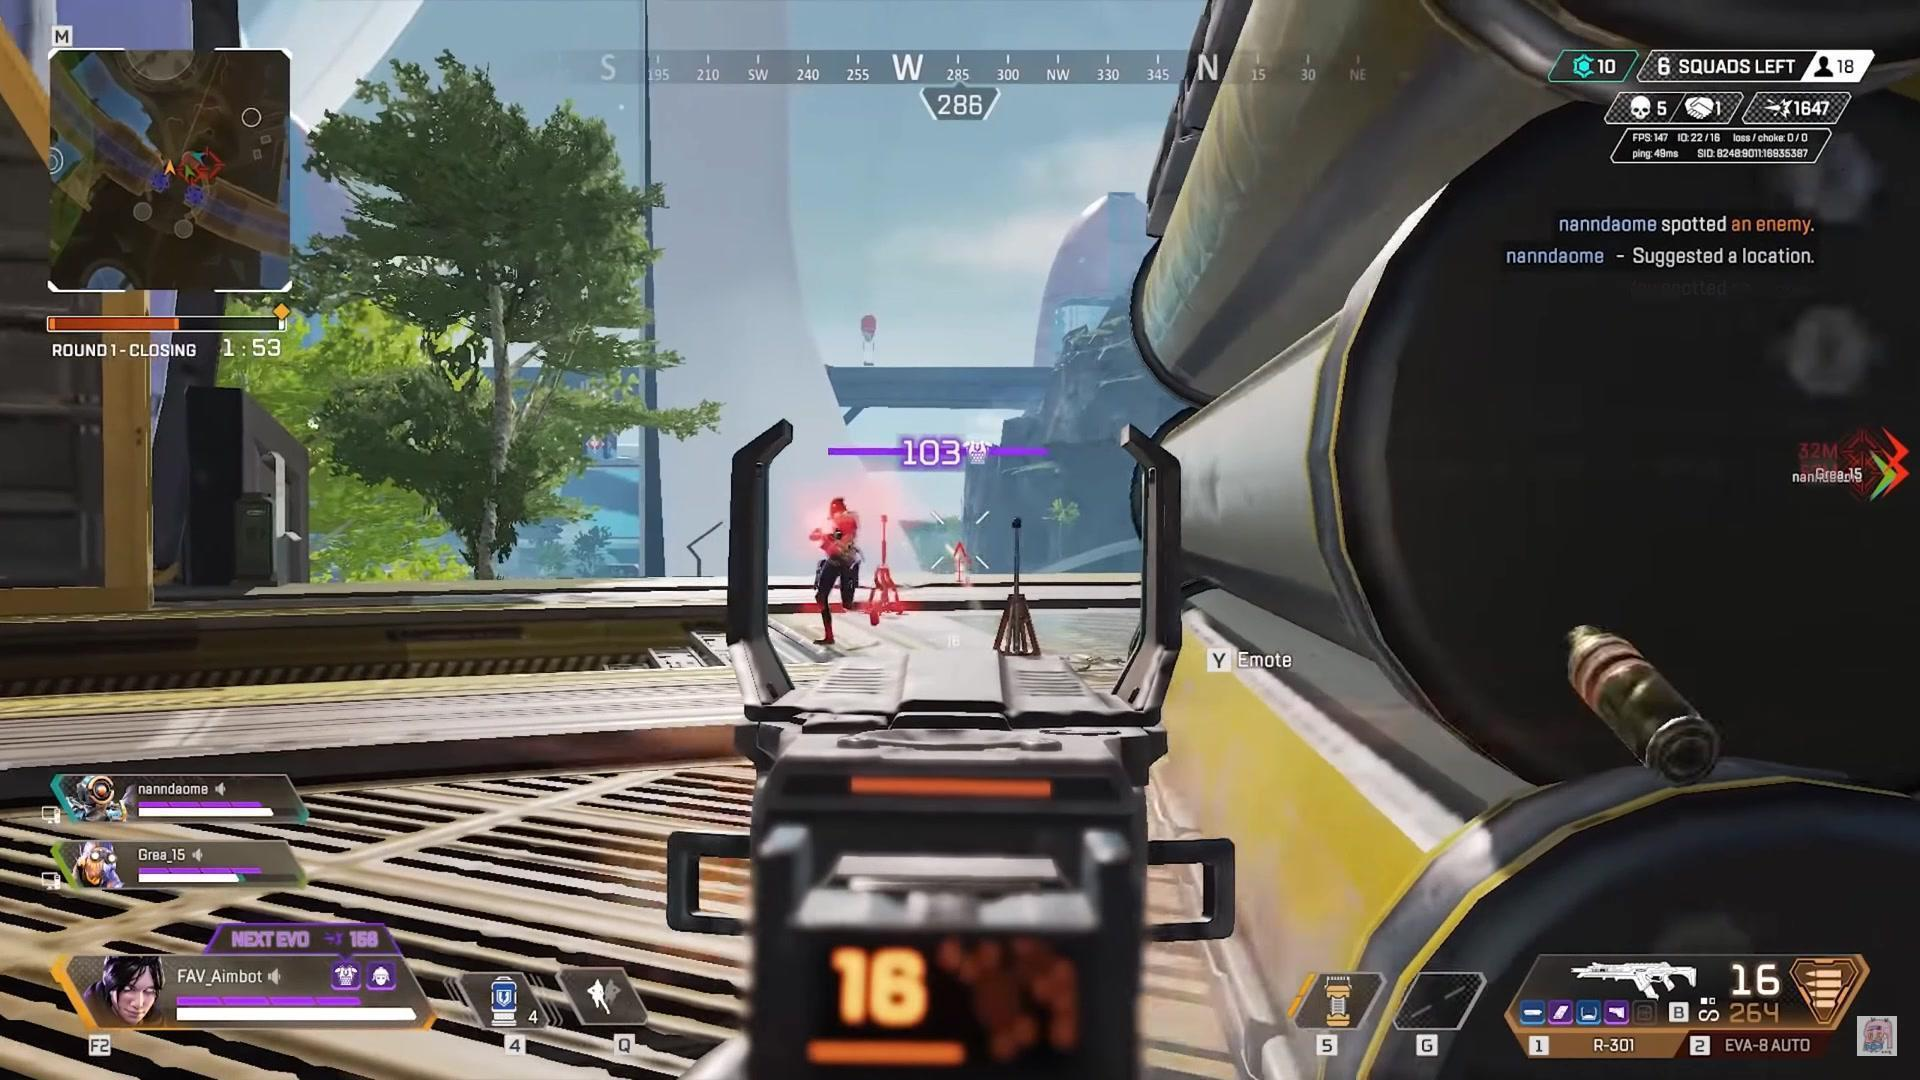avatar: (809, 494, 864, 649)
